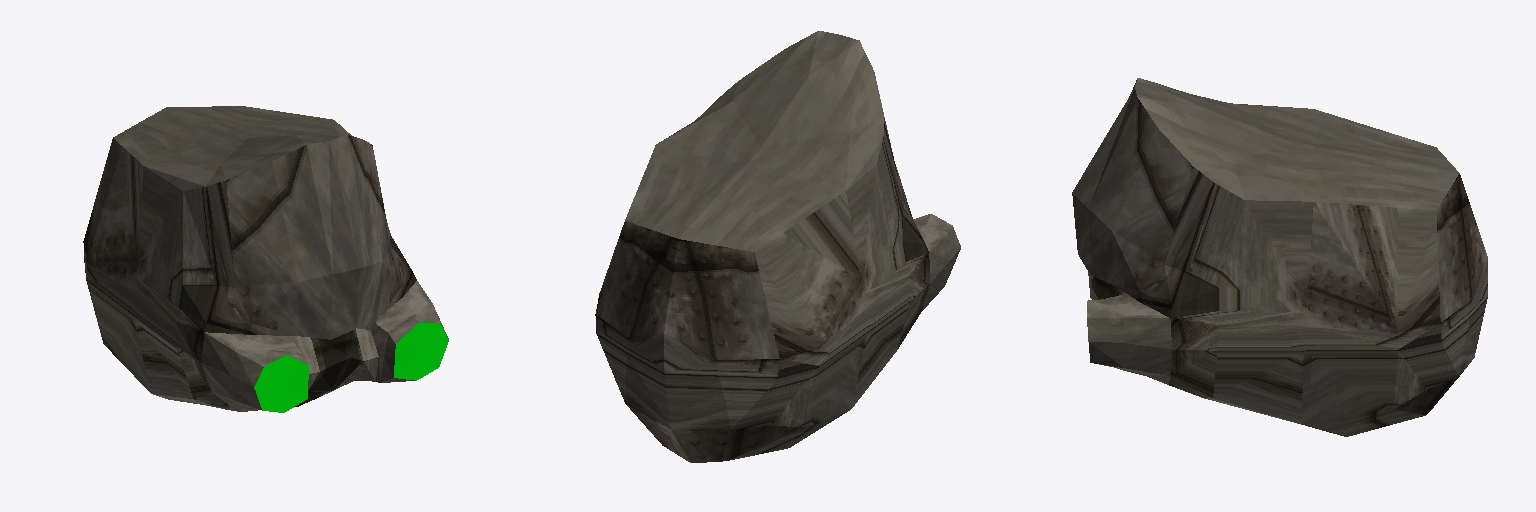
The picture shows the model from 3 angles: view 1: azimuth 30°, elevation 25°; view 2: azimuth 150°, elevation 25°; view 3: azimuth 270°, elevation 25°; orthographic projection.
Visible parts, largest first — view 1: head; view 2: head; view 3: head.
Boxes of the visible parts, <box> form: head: <box>83,106,448,412</box>; head: <box>595,31,960,462</box>; head: <box>1072,78,1487,436</box>.
Bounding box in the file's own units: 1.34 × 1.94 × 2.17.
2 materials, 2 textured.